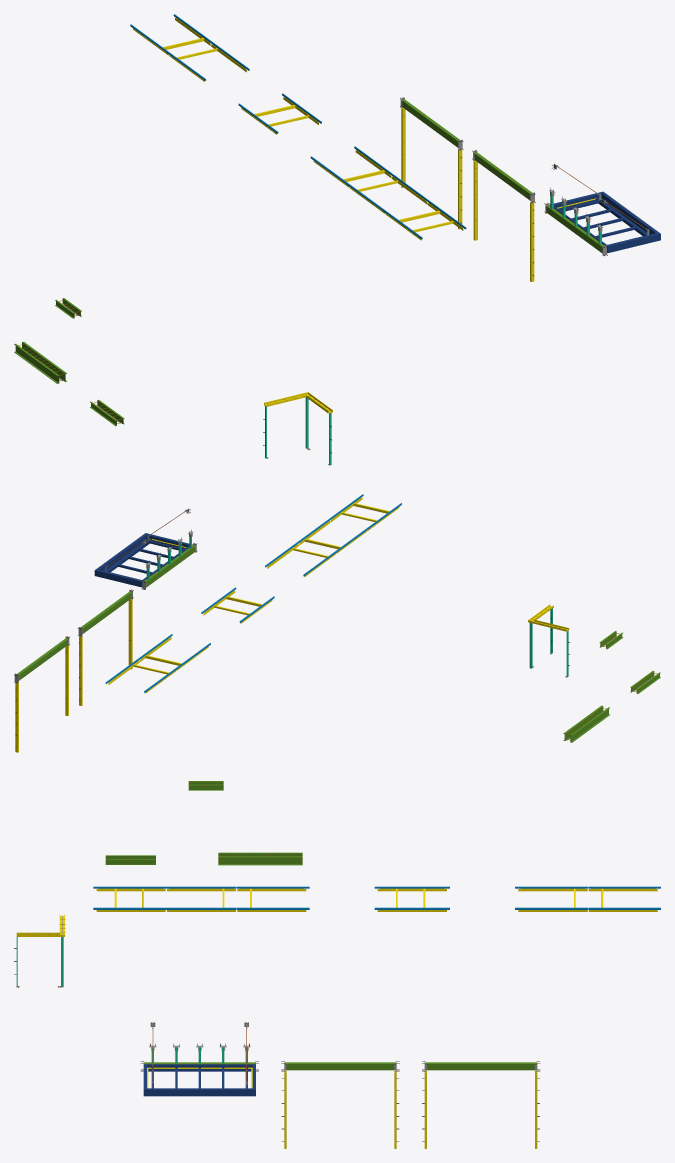
The picture shows the model from 3 angles, top to bottom: view 1: azimuth 30°, elevation 25°; view 2: azimuth 150°, elevation 25°; view 3: azimuth 270°, elevation 25°; orthographic projection. The views are drawn at different scales.
Visible parts, largest first — view 1: Mesh 34446; view 2: Mesh 34446; view 3: Mesh 34446.
Part boxes in pixels (left/top/right/bottom): Mesh 34446: left=14, top=14, right=660, bottom=465; Mesh 34446: left=14, top=494, right=660, bottom=752; Mesh 34446: left=14, top=781, right=660, bottom=1148.
Bounding box in the file's own units: 27.56 × 7.82 × 28.05.
Materials: 1 (1 with a texture image).
